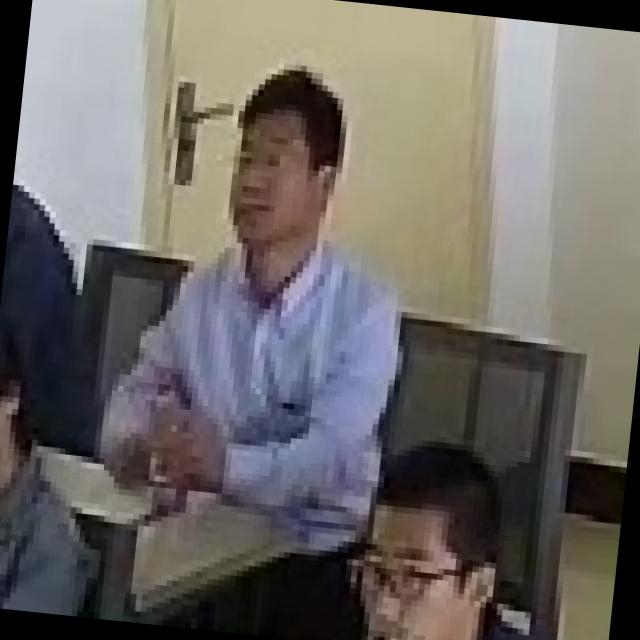listen: (93, 42, 420, 546), (344, 422, 576, 640)
